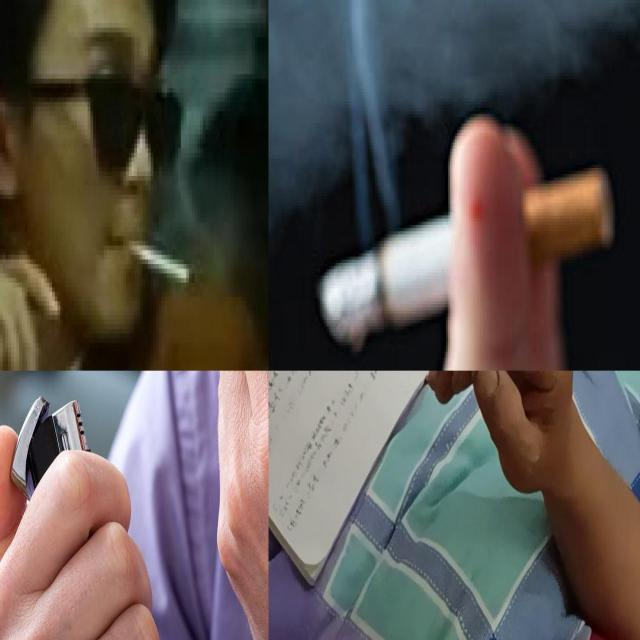smoking: (316, 165, 616, 351), (118, 236, 190, 282)
